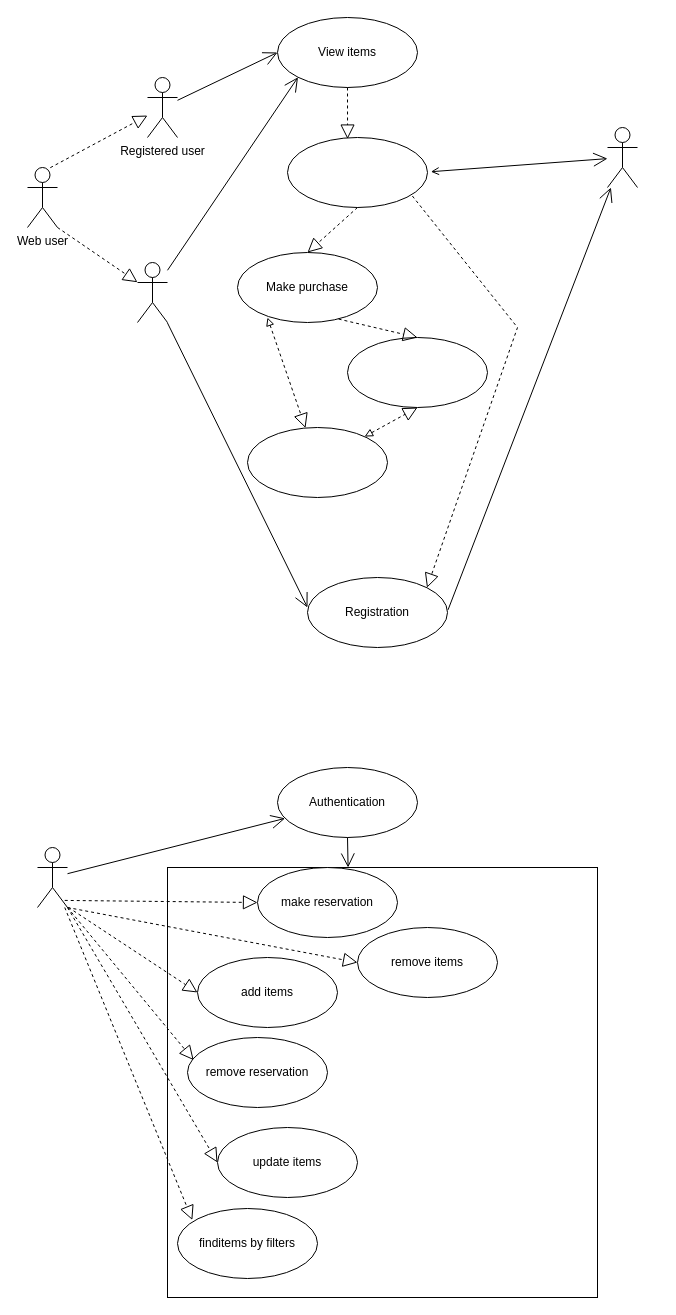
Some shapes in this 676 by 1315 pixel diagram are drawn without their labels. Here are the shapes that lost their labels. From the top down, the centre of each, then its label:
[357,172]: Checkout
[622,157]: Authenication
[152,292]: Unregistered user
[417,372]: Pay
[317,462]: Reservation items
[52,877]: Admin
